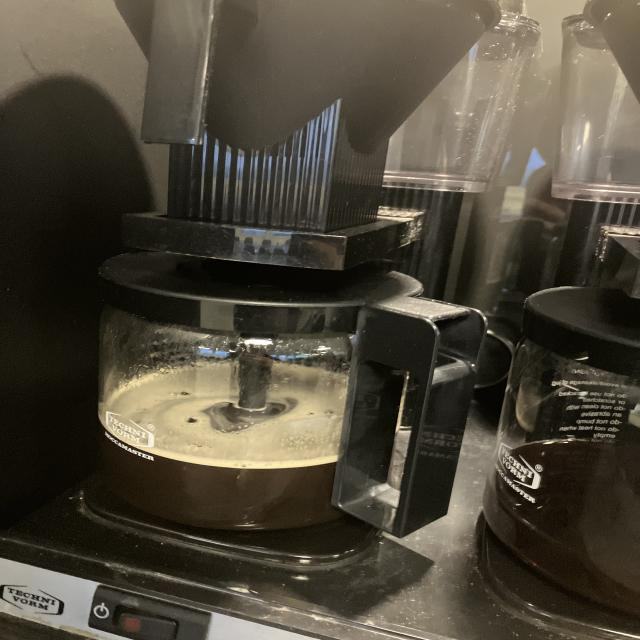coffee: (78, 277, 436, 525), (507, 297, 640, 613)
